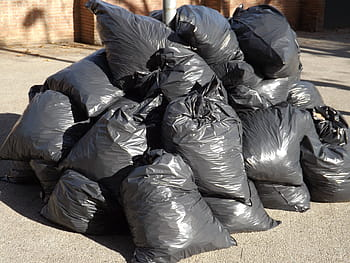plastic_bagwdw: (145, 67, 282, 237), (99, 127, 253, 263), (68, 83, 188, 227), (222, 1, 335, 123), (227, 84, 320, 219), (4, 62, 95, 187), (80, 1, 175, 107), (287, 69, 349, 230), (182, 171, 288, 263), (158, 1, 246, 101), (28, 150, 113, 246), (240, 158, 327, 236)
